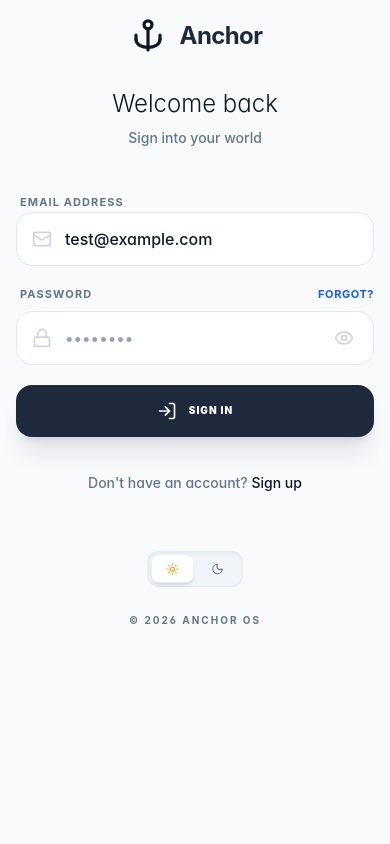
Scenario: AuthView › validates missing password on login
The width and height of the screenshot is (390, 844).
Click the button "Sign In": [195, 410] box [16,384,374,436]
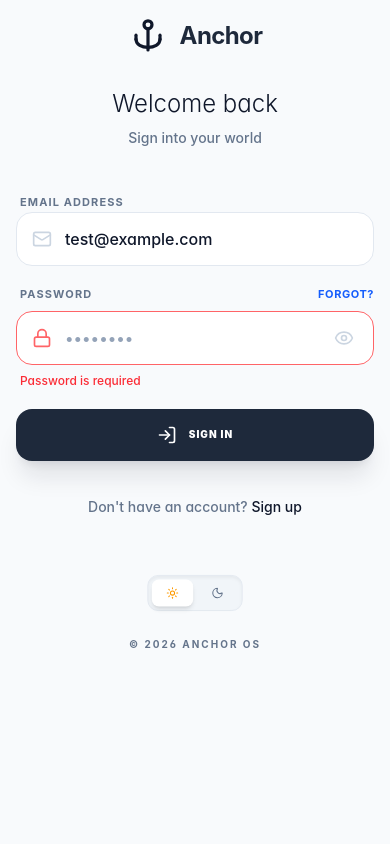
Result: the text "Password is required" is shown at [20,372,141,388]
